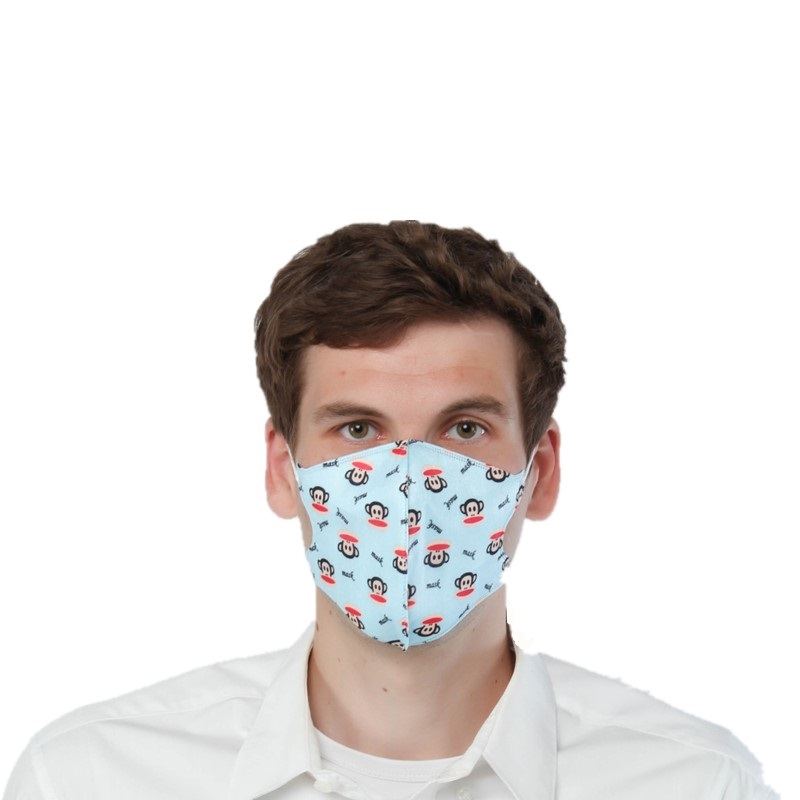face_mask: (289, 318, 525, 636)
